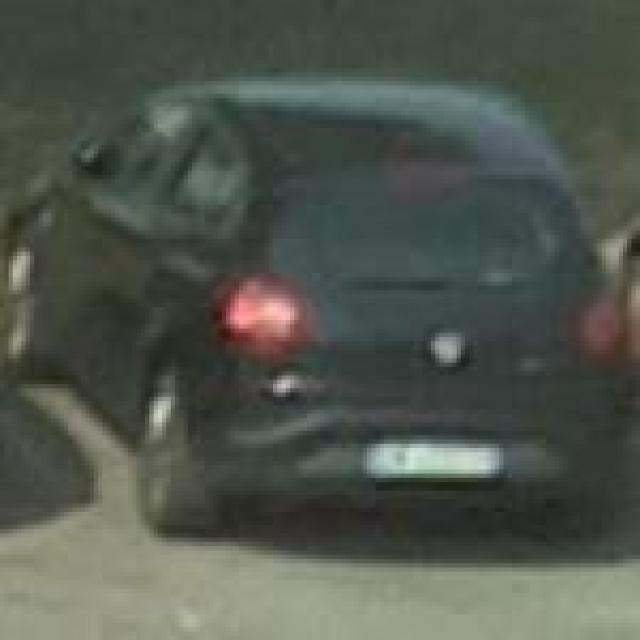cars-sUYr: (0, 55, 640, 555)
